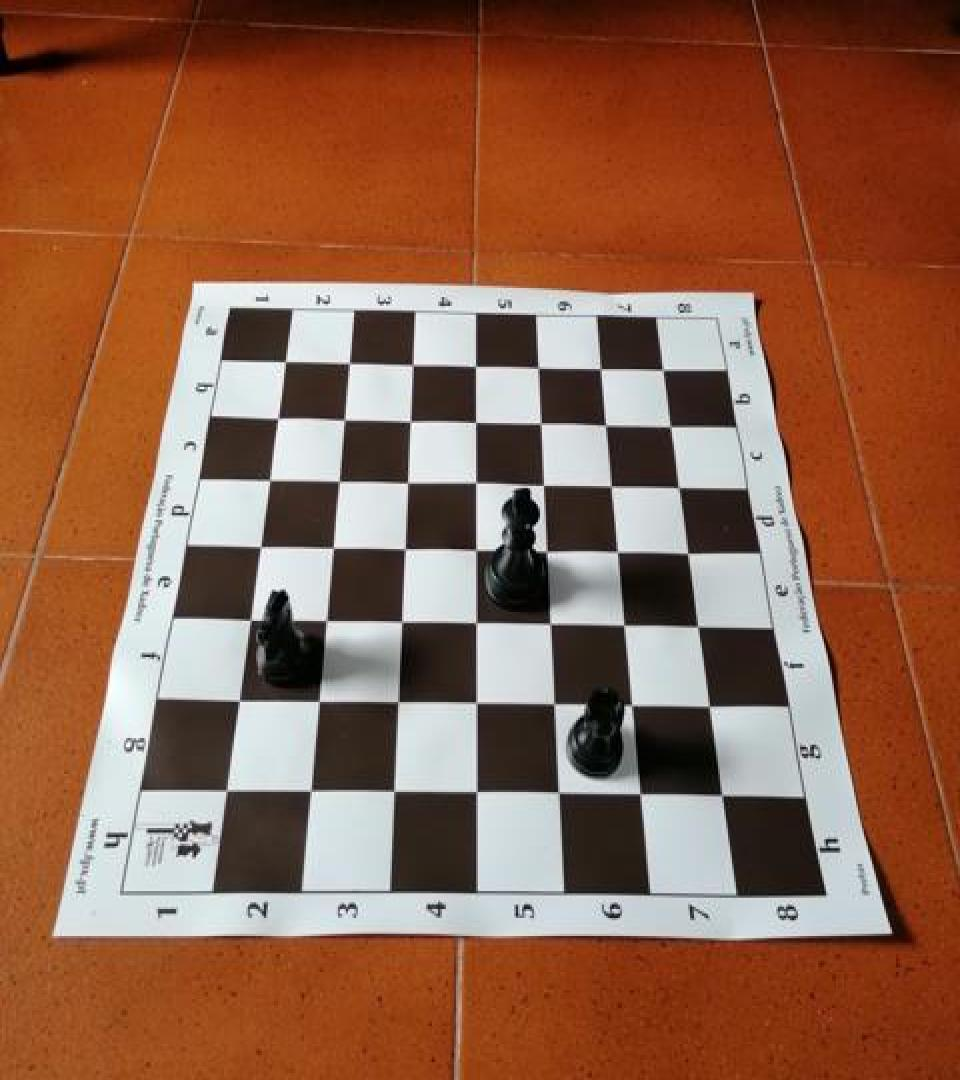xcorner: (650, 350, 680, 384), (587, 348, 617, 382), (525, 348, 555, 382), (462, 348, 492, 382), (399, 346, 429, 380), (335, 345, 365, 379), (272, 344, 302, 378), (658, 406, 688, 440), (593, 406, 623, 440), (527, 405, 557, 439), (461, 404, 491, 438), (264, 402, 294, 436), (666, 468, 696, 502), (598, 468, 628, 502), (530, 467, 560, 501), (256, 464, 286, 498), (676, 536, 706, 570), (604, 536, 634, 570), (533, 534, 563, 568), (461, 533, 491, 567), (390, 532, 420, 566), (318, 532, 348, 566), (247, 531, 277, 565), (686, 610, 716, 644), (536, 608, 566, 642), (461, 608, 491, 642), (386, 606, 416, 640), (311, 605, 341, 639), (236, 604, 266, 638), (697, 690, 727, 724), (618, 690, 648, 724), (383, 687, 413, 721), (304, 686, 334, 720), (225, 685, 255, 719), (709, 780, 739, 814), (626, 780, 656, 814), (544, 778, 574, 812), (461, 777, 491, 811), (378, 776, 408, 810), (296, 776, 326, 810), (213, 775, 243, 809), (396, 403, 426, 436), (330, 403, 360, 436), (461, 466, 491, 499), (393, 465, 423, 498), (324, 465, 354, 498), (611, 609, 641, 642), (540, 689, 570, 722), (461, 689, 491, 722)
